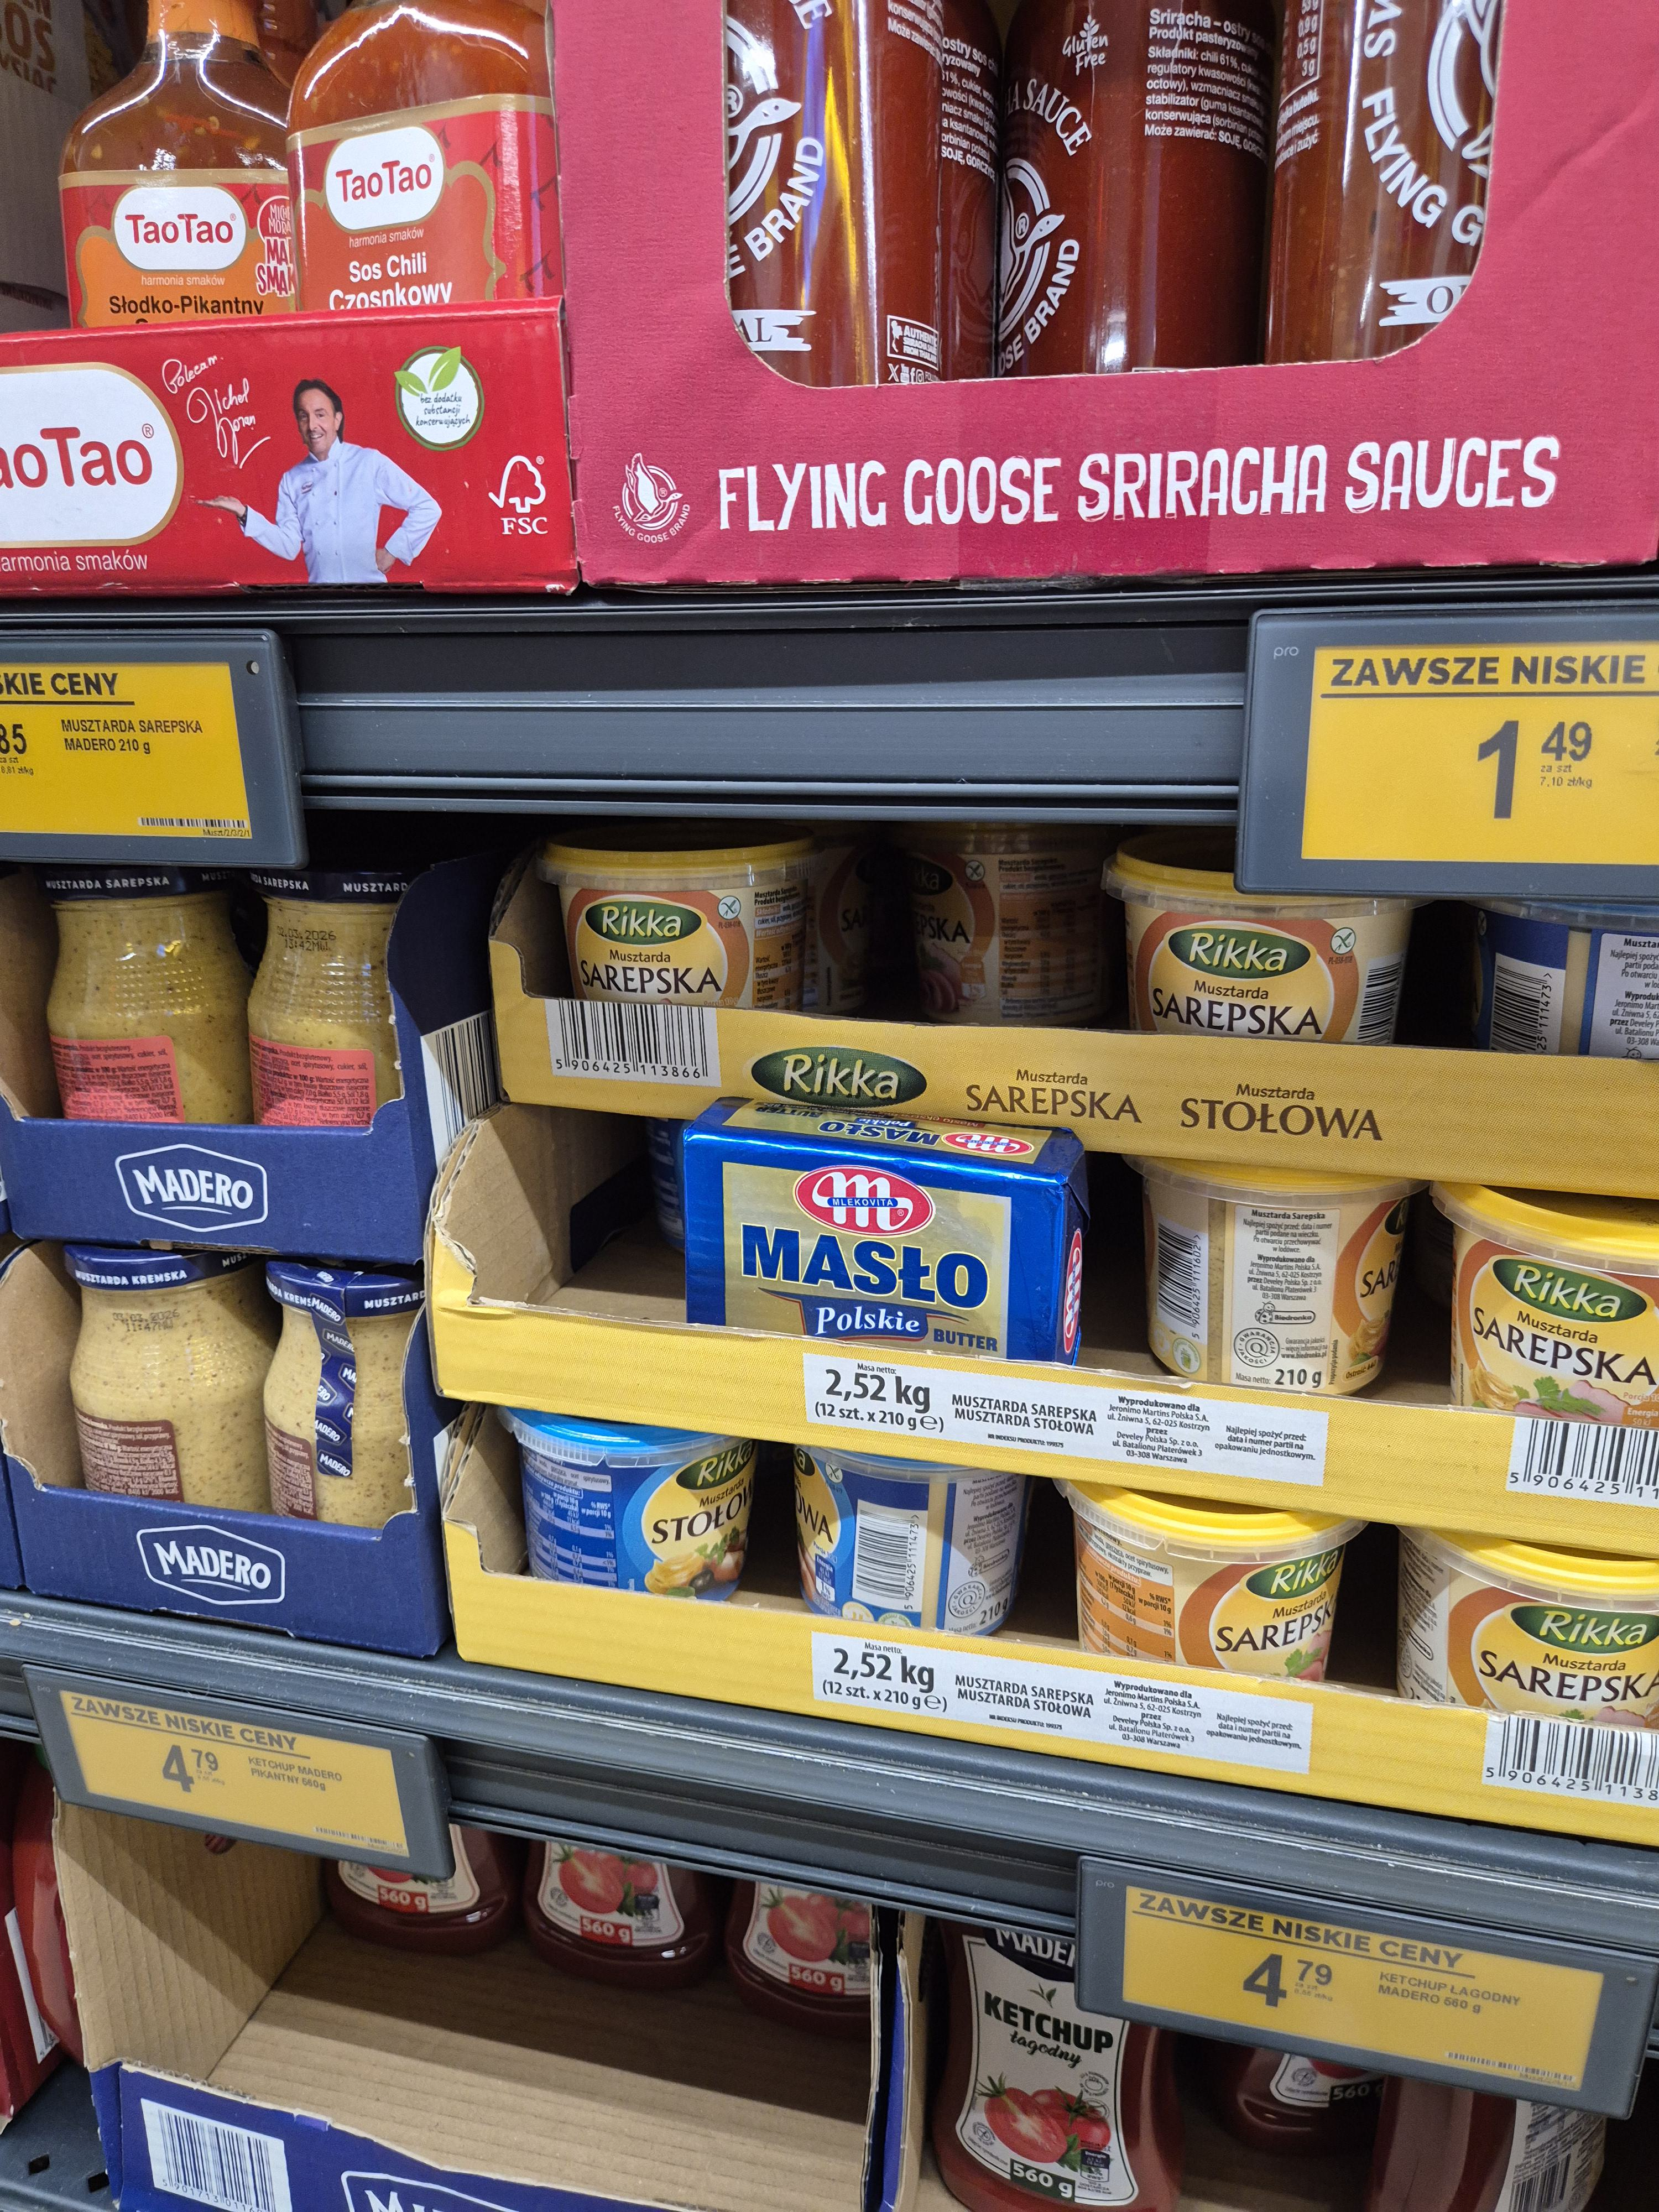Butter: (662, 1069, 1121, 1374)
